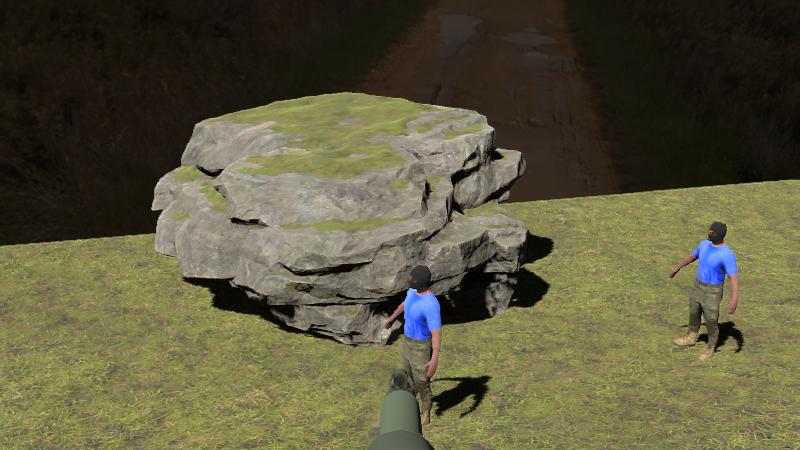Human: (669, 220, 739, 362), (386, 266, 442, 430)
